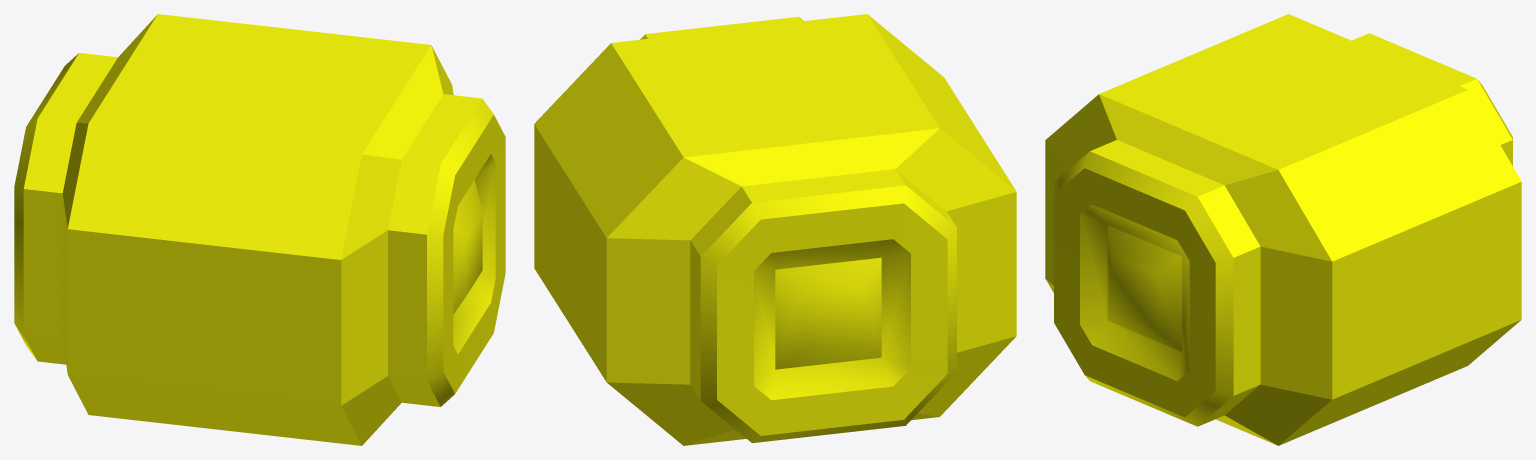
Rendered from kaykit-tunnel-diagonal-short-a.glb.
3 views of the same model, side by side, from view 1: azimuth 30°, elevation 25°; view 2: azimuth 150°, elevation 25°; view 3: azimuth 270°, elevation 25° (orthographic). The views are drawn at different scales.
Visible parts, largest first — view 1: tunnel_diagonal_short_A; view 2: tunnel_diagonal_short_A; view 3: tunnel_diagonal_short_A.
Part boxes in pixels (<box>): tunnel_diagonal_short_A: <box>14,14,505,445</box>; tunnel_diagonal_short_A: <box>534,14,1016,445</box>; tunnel_diagonal_short_A: <box>1045,14,1521,445</box>.
Size of the model in its own units: 0.939 by 0.6 by 0.939.
